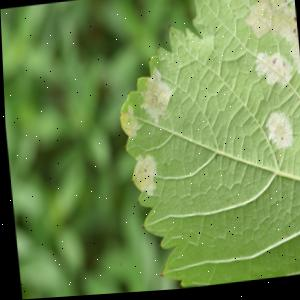Folha: (106, 0, 300, 294)
Fungo: (241, 0, 300, 92), (134, 65, 173, 127), (252, 50, 293, 93), (126, 153, 157, 200), (261, 111, 293, 154), (242, 0, 273, 42), (275, 5, 298, 47), (117, 101, 138, 145), (255, 0, 295, 16), (287, 35, 300, 83), (208, 0, 242, 8)
